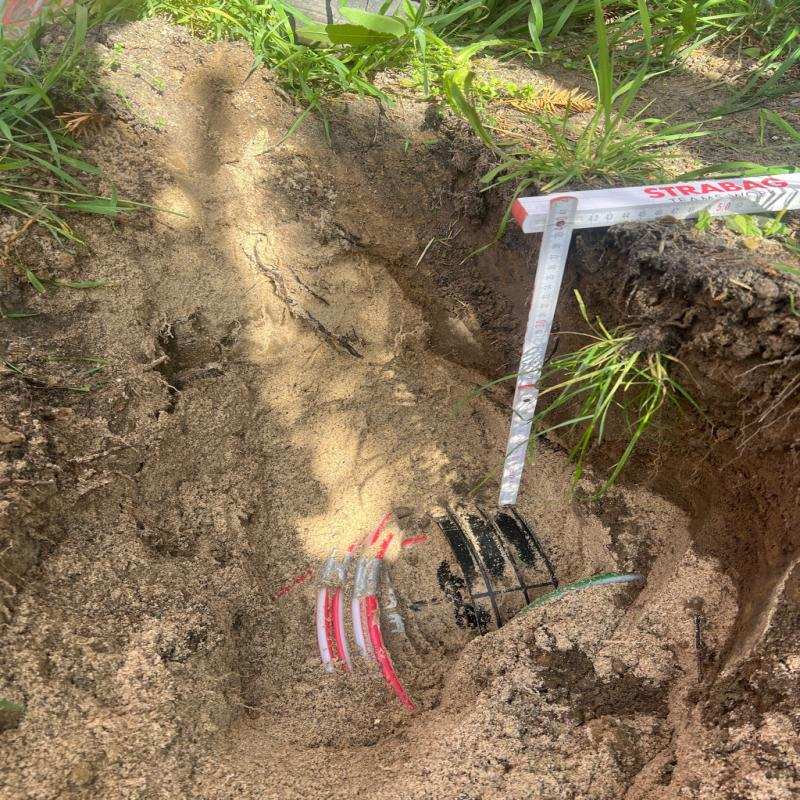NT-Muffen: (406, 501, 563, 635)
